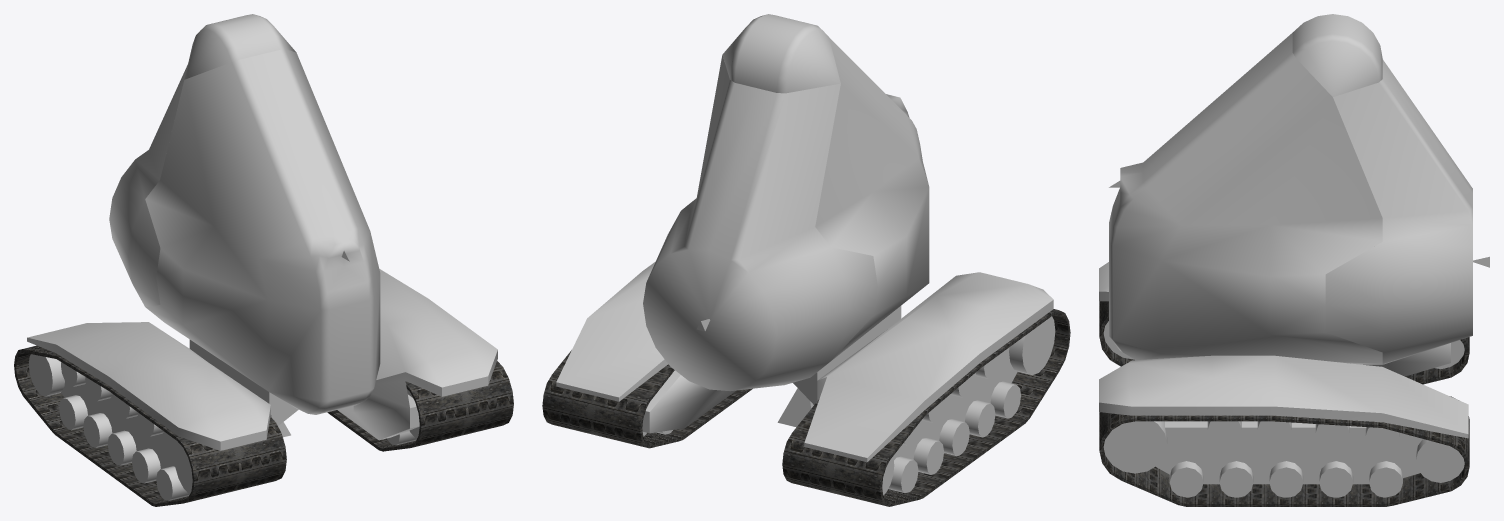
The model's file is ivscav00.FBX.
The picture shows the model from 3 angles, left to right: view 1: azimuth 30°, elevation 25°; view 2: azimuth 150°, elevation 25°; view 3: azimuth 270°, elevation 25°; orthographic projection. The views are drawn at different scales.
Parts seen in each view (by area): view 1: mainbody, tread_r, tread_l, tractor_r, spoon, tractor_l; view 2: spoon, tread_r, mainbody, tractor_r, tread_l, tractor_l, dummy__h; view 3: mainbody, tread_l, spoon, tractor_l, tread_r, tractor_r.
Boxes of the visible parts, <box> form: mainbody: <box>145,14,380,414</box>; tread_r: <box>27,322,298,500</box>; tread_l: <box>337,269,497,445</box>; tractor_r: <box>14,345,286,506</box>; spoon: <box>109,64,187,306</box>; tractor_l: <box>327,361,513,451</box>; spoon: <box>643,55,877,391</box>; tread_r: <box>793,272,1055,495</box>; mainbody: <box>722,14,929,366</box>; tractor_r: <box>782,309,1070,506</box>; tread_l: <box>556,262,735,436</box>; tractor_l: <box>542,350,752,448</box>; dummy__h: <box>777,388,813,427</box>; mainbody: <box>1109,14,1382,364</box>; tread_l: <box>1099,355,1468,497</box>; spoon: <box>1325,59,1472,364</box>; tractor_l: <box>1099,396,1469,506</box>; tread_r: <box>1099,262,1464,376</box>; tractor_r: <box>1099,301,1469,384</box>.
Size of the model in its own units: 7.6 by 8.93 by 7.84.
